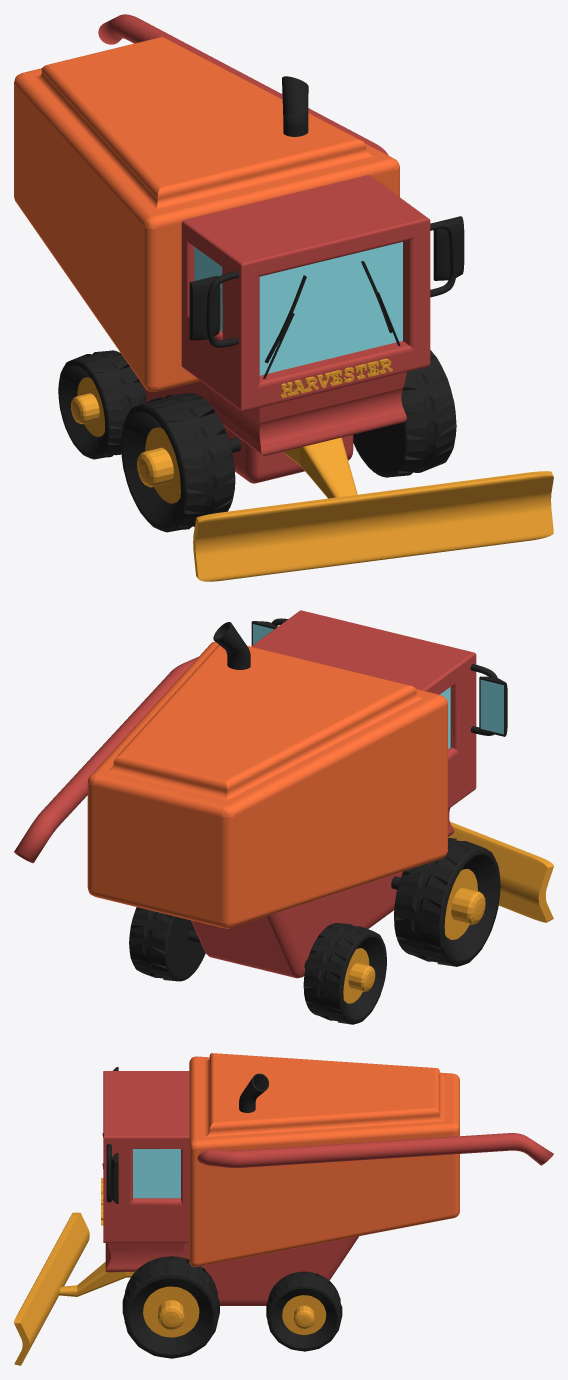
File: HArvester.fbx
The picture shows the model from 3 angles, top to bottom: view 1: azimuth 30°, elevation 25°; view 2: azimuth 150°, elevation 25°; view 3: azimuth 270°, elevation 25°; orthographic projection. The views are drawn at different scales.
Visible parts, largest first — view 1: Cube.006, Cube.004, Cube.012; view 2: Cube.006, Cube.012, Cube.004; view 3: Cube.006, Cube.004, Cube.012.
Part boxes in pixels (left/top/right/bottom): Cube.006: left=14, top=14, right=553, bottom=581; Cube.004: left=121, top=350, right=456, bottom=532; Cube.012: left=58, top=350, right=146, bottom=459; Cube.006: left=14, top=610, right=553, bottom=978; Cube.012: left=129, top=907, right=386, bottom=1024; Cube.004: left=394, top=838, right=500, bottom=966; Cube.006: left=14, top=1053, right=553, bottom=1365; Cube.004: left=122, top=1256, right=219, bottom=1358; Cube.012: left=266, top=1271, right=342, bottom=1351.
Bounding box in the file's own units: 13.18 × 14.25 × 26.75.
